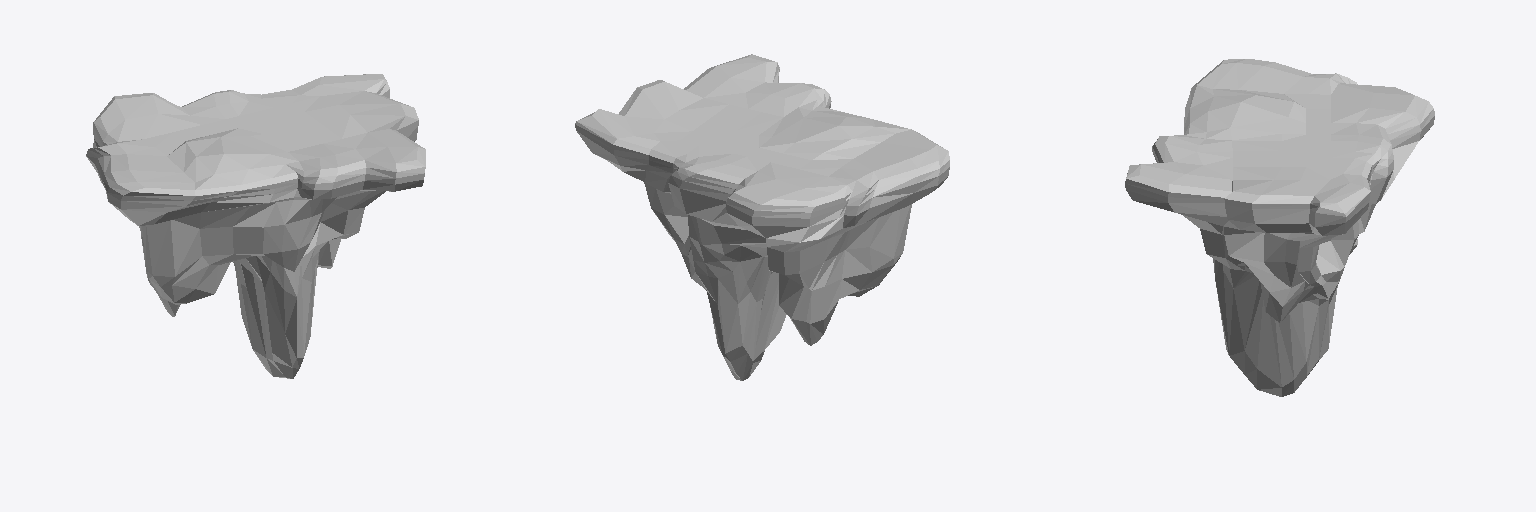
Rendered from IslandBaseTest01.obj.
3 views of the same model, side by side, from view 1: azimuth 30°, elevation 25°; view 2: azimuth 150°, elevation 25°; view 3: azimuth 270°, elevation 25° (orthographic).
Visible parts, largest first — view 1: Base, Lid; view 2: Base, Lid; view 3: Lid, Base.
Boxes of the visible parts, box(x1,y1,x2,y2) form: Base: box(86, 82, 425, 378); Lid: box(94, 74, 425, 195); Base: box(575, 63, 949, 380); Lid: box(577, 54, 947, 206); Lid: box(1126, 59, 1428, 213); Base: box(1125, 74, 1434, 396).
Size of the model in its own units: 4133 by 3176 by 3470.